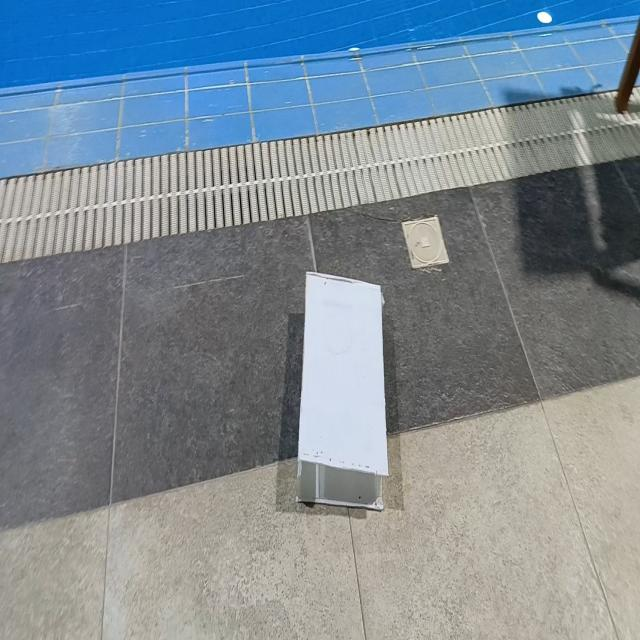Cuboid: (296, 269, 390, 510)
